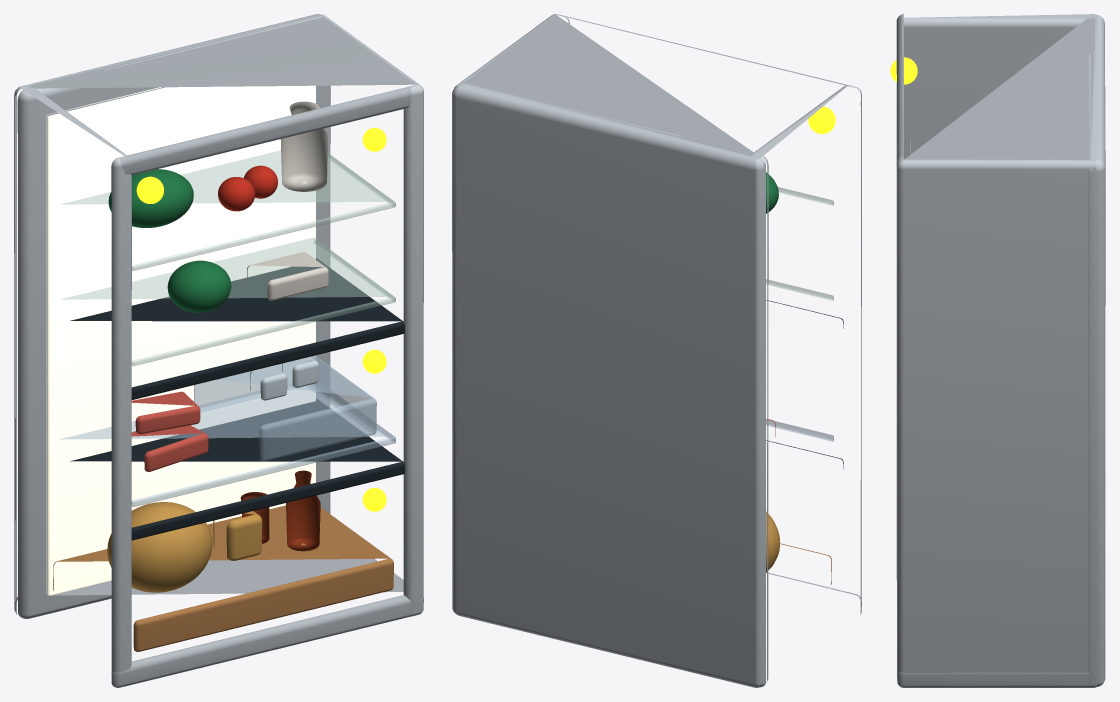
Rendered from smart-fridge-3zone.glb.
The picture shows the model from 3 angles, left to right: view 1: azimuth 30°, elevation 25°; view 2: azimuth 150°, elevation 25°; view 3: azimuth 270°, elevation 25°; orthographic projection.
Visible parts, largest first — view 1: Fridge_Chassis, Zone_Cool, Zone_Pantry, Zone_Freeze; view 2: Fridge_Chassis, Zone_Cool, Zone_Pantry; view 3: Fridge_Chassis, Expiry_Beacon.
Boxes of the visible parts, x1,y1,x2,y2 form: Fridge_Chassis: (14, 14, 423, 687); Zone_Cool: (60, 101, 395, 366); Zone_Pantry: (53, 470, 393, 651); Zone_Freeze: (59, 349, 395, 506); Fridge_Chassis: (452, 14, 861, 687); Zone_Cool: (766, 172, 833, 300); Zone_Pantry: (766, 511, 831, 584); Fridge_Chassis: (896, 14, 1105, 687); Expiry_Beacon: (890, 57, 917, 84).
Size of the model in its own units: 1.44 by 2.34 by 0.865.
